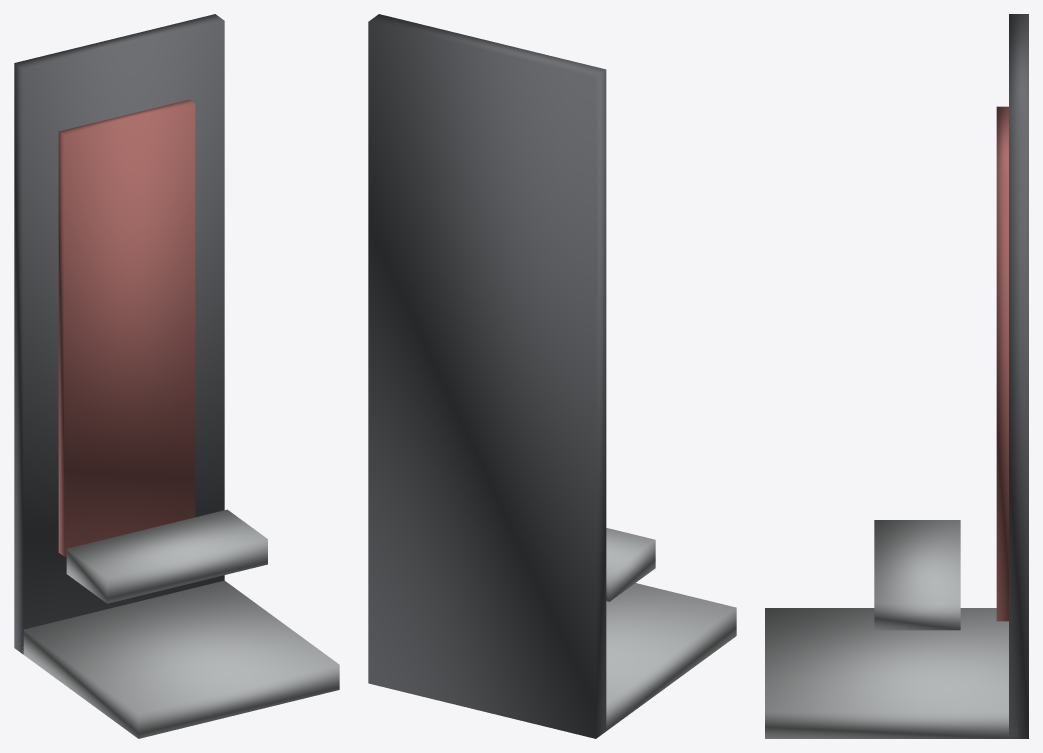
Rendered from roof_access_hatch_stair_05.glb.
3 renders of one model, left to right at view 1: azimuth 30°, elevation 25°; view 2: azimuth 150°, elevation 25°; view 3: azimuth 270°, elevation 25°, orthographic. The views are drawn at different scales.
Visible parts, largest first — view 1: world; view 2: world; view 3: world.
Part boxes in pixels (x1,y1,x2,y2): world: [14, 14, 339, 738]; world: [368, 14, 736, 738]; world: [765, 14, 1028, 738].
Bounding box in the file's own units: 1 × 2.78 × 1.07.
